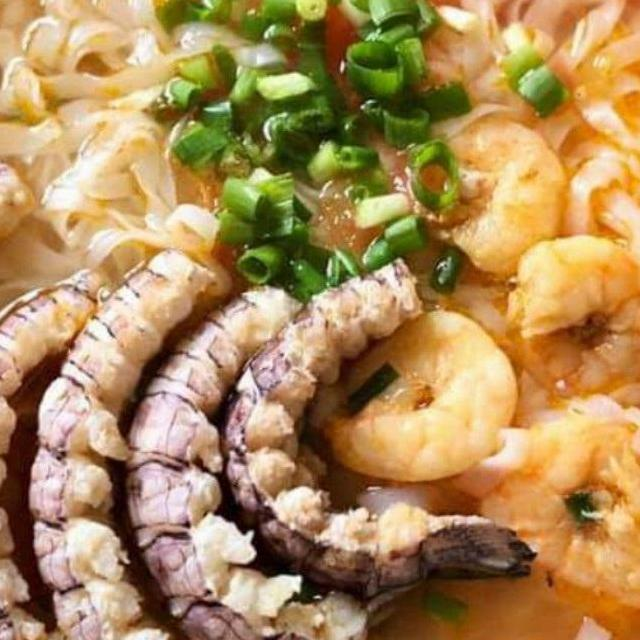banh pho: (0, 0, 278, 303), (426, 0, 640, 306)
tom: (298, 301, 520, 493), (463, 401, 640, 626), (498, 225, 640, 409)
tom tit: (11, 239, 330, 640), (98, 271, 441, 640), (208, 254, 546, 603), (0, 259, 143, 640)
